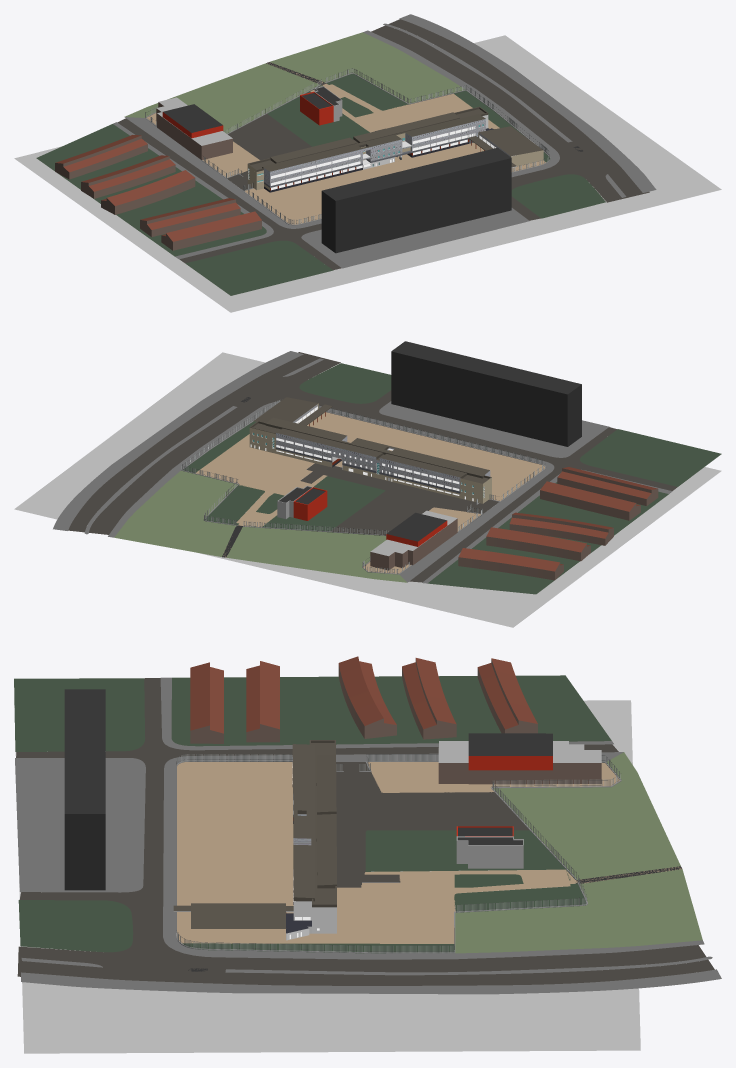
The model's file is Aqucarera.FBX.
3 renders of one model, top to bottom at view 1: azimuth 30°, elevation 25°; view 2: azimuth 150°, elevation 25°; view 3: azimuth 270°, elevation 25°, orthographic. The views are drawn at different scales.
Parts seen in each view (by area): view 1: surroundings, Plane001, Fasad, staketpinnar alpha, Curtains, fence; view 2: surroundings, Plane001, Fasad, staketpinnar alpha, fence, Curtains; view 3: surroundings, Plane001, Fasad, staketpinnar alpha, fence.
Part boxes in pixels (bbox=[...]): surroundings: bbox=[36, 14, 656, 295]; Plane001: bbox=[14, 35, 721, 312]; Fasad: bbox=[247, 106, 543, 192]; staketpinnar alpha: bbox=[145, 68, 548, 224]; Curtains: bbox=[271, 126, 495, 189]; fence: bbox=[145, 68, 550, 225]; surroundings: bbox=[53, 341, 721, 594]; Plane001: bbox=[14, 352, 721, 627]; Fasad: bbox=[249, 397, 491, 503]; staketpinnar alpha: bbox=[181, 400, 543, 573]; fence: bbox=[181, 403, 545, 574]; Curtains: bbox=[250, 406, 473, 500]; surroundings: bbox=[14, 656, 721, 994]; Plane001: bbox=[14, 700, 640, 1053]; Fasad: bbox=[173, 740, 336, 940]; staketpinnar alpha: bbox=[177, 754, 620, 953]; fence: bbox=[176, 754, 621, 953].
Size of the model in its own units: 29342 by 3878 by 24723.
